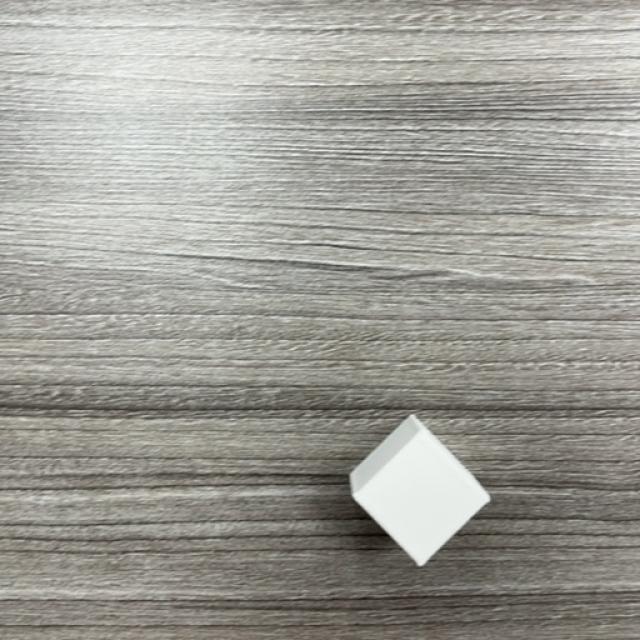Blanco: (348, 415, 491, 568)
